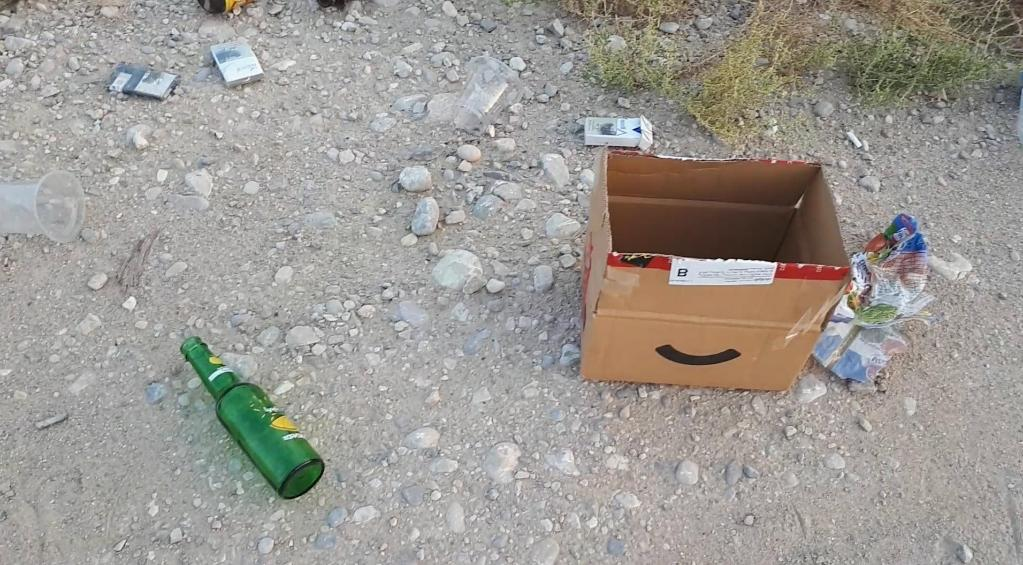garbage: (566, 149, 847, 385), (179, 336, 323, 499), (805, 218, 934, 388), (0, 165, 88, 253), (197, 0, 258, 13)
